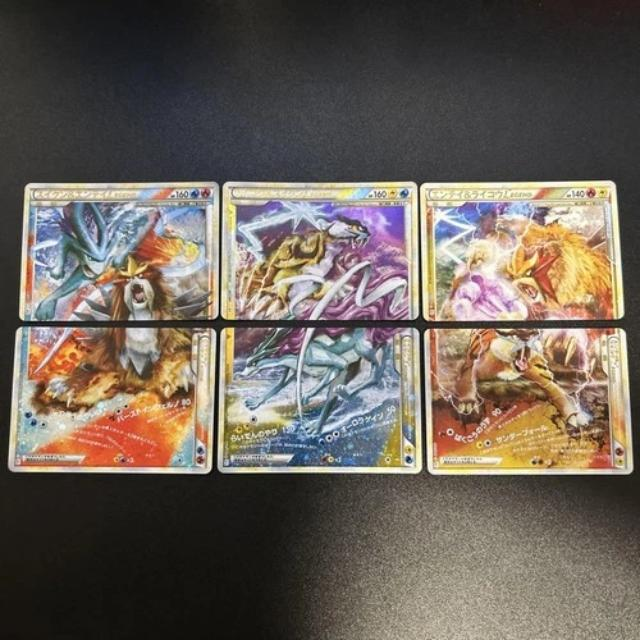Card: (4, 324, 219, 477), (422, 326, 636, 478), (215, 325, 425, 477), (419, 178, 628, 325), (17, 179, 222, 323), (219, 179, 421, 323)
Name: (228, 184, 344, 202), (428, 186, 545, 203), (33, 188, 139, 201), (606, 336, 625, 394), (196, 333, 212, 395), (399, 333, 415, 390)
